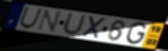6: (106, 20, 127, 42)
G: (125, 21, 149, 46)
N: (35, 9, 63, 34)
U: (60, 12, 88, 36), (18, 6, 43, 30)
X: (80, 15, 107, 40)
